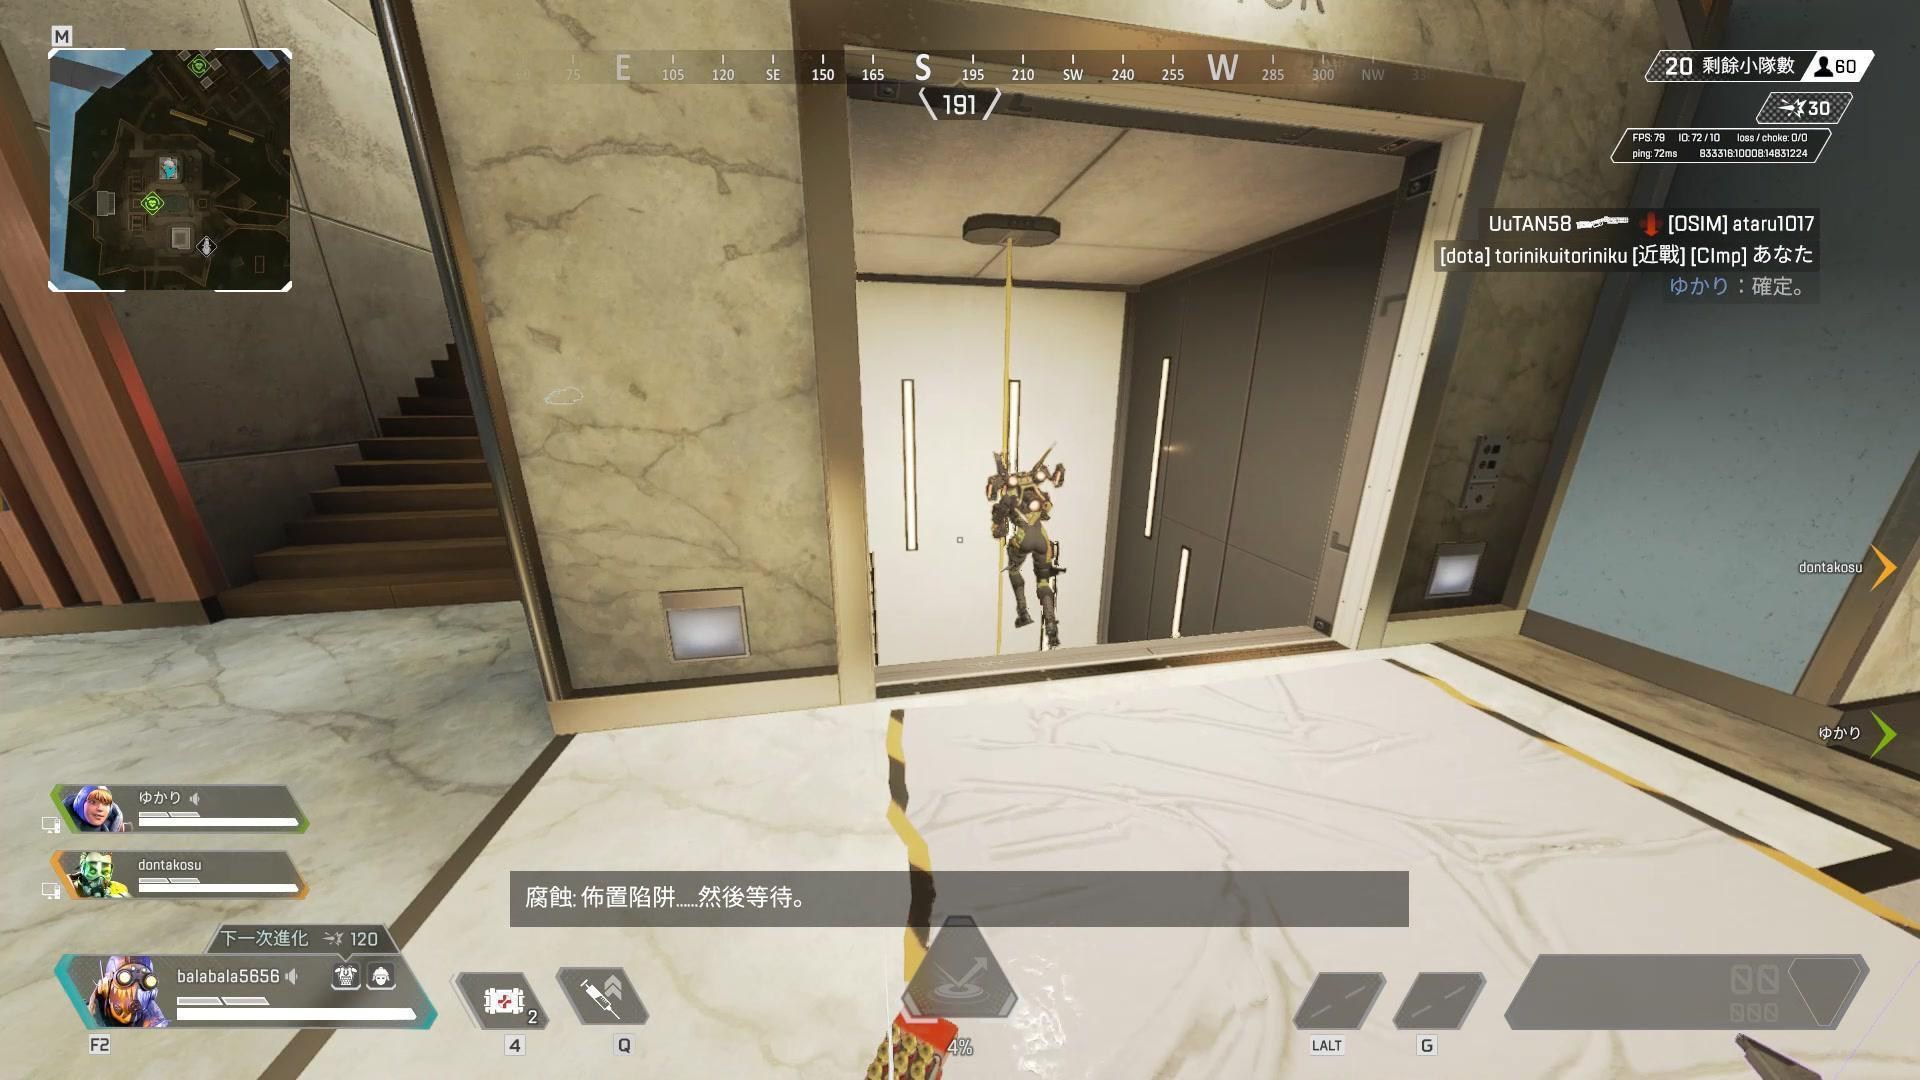avatar: (984, 450, 1066, 648)
